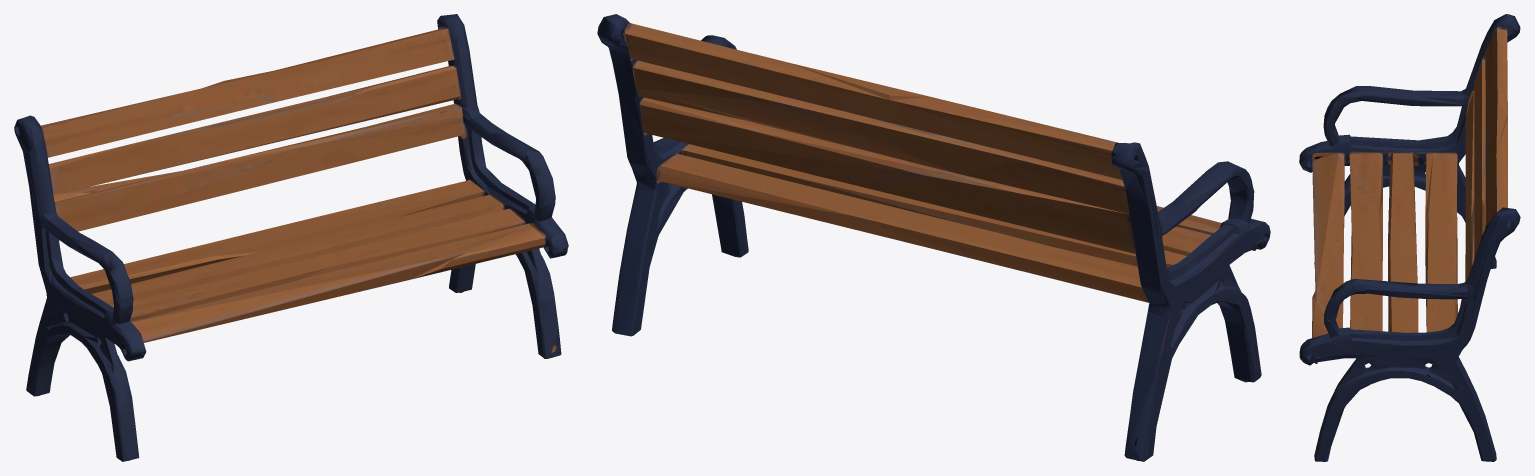
The model's file is prop_bench_a_v001.glb.
3 renders of one model, left to right at view 1: azimuth 30°, elevation 25°; view 2: azimuth 150°, elevation 25°; view 3: azimuth 270°, elevation 25°, orthographic. The views are drawn at different scales.
Visible parts, largest first — view 1: output_unwrapped; view 2: output_unwrapped; view 3: output_unwrapped.
Boxes of the visible parts, left/top/right/bottom form: output_unwrapped: left=14, top=14, right=568, bottom=461; output_unwrapped: left=597, top=14, right=1270, bottom=461; output_unwrapped: left=1299, top=14, right=1520, bottom=461.
Bounding box in the file's own units: 1.55 × 0.9 × 0.7174.
1 material, 1 textured.
